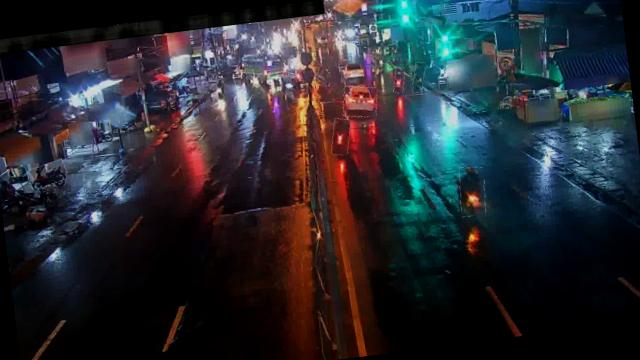Bike: (457, 166, 488, 218), (26, 160, 68, 188), (329, 117, 353, 155), (409, 62, 426, 94), (392, 66, 406, 93)
Car: (341, 84, 378, 119), (338, 57, 364, 82)
